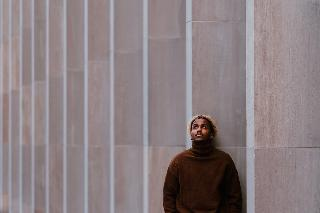person - v3 P: (163, 115, 242, 212)
